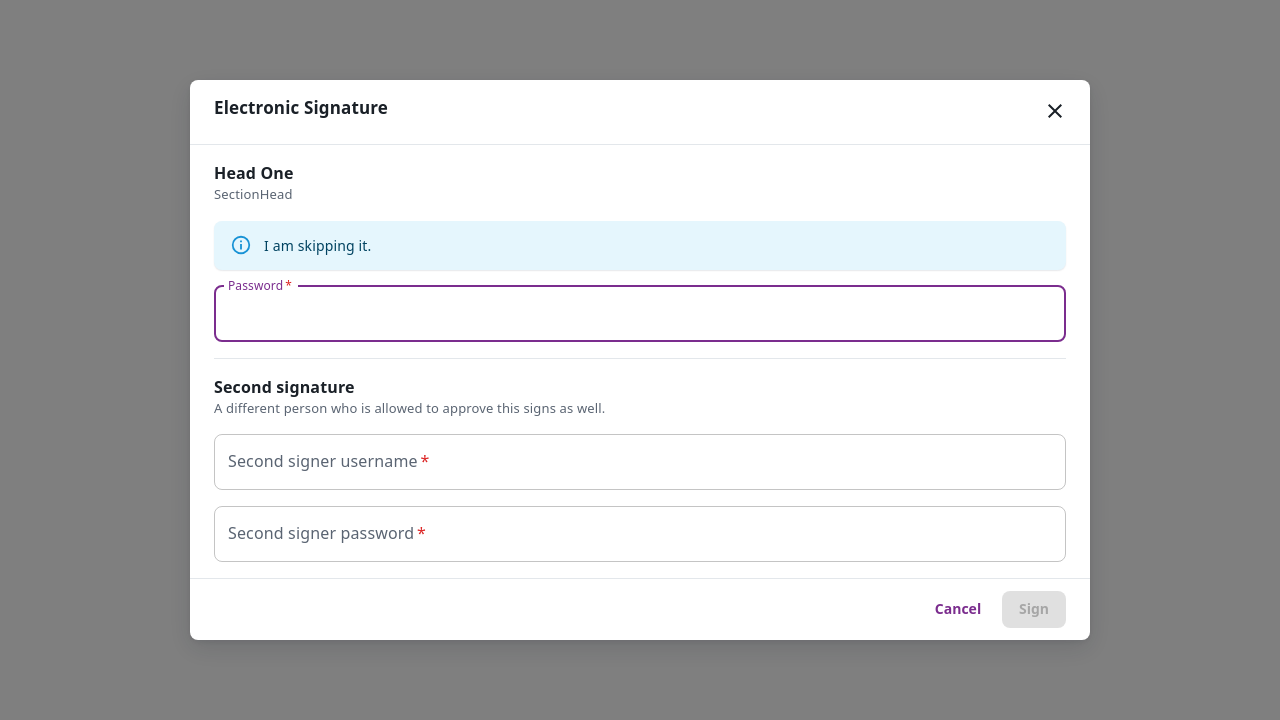
Scenario: SignatureDialog › shows the server's message, clears the passwords and stays open when signing fails
Type "pw-1" into the password field labelled "Password *" at (640, 314), box [214,286,1066,342]
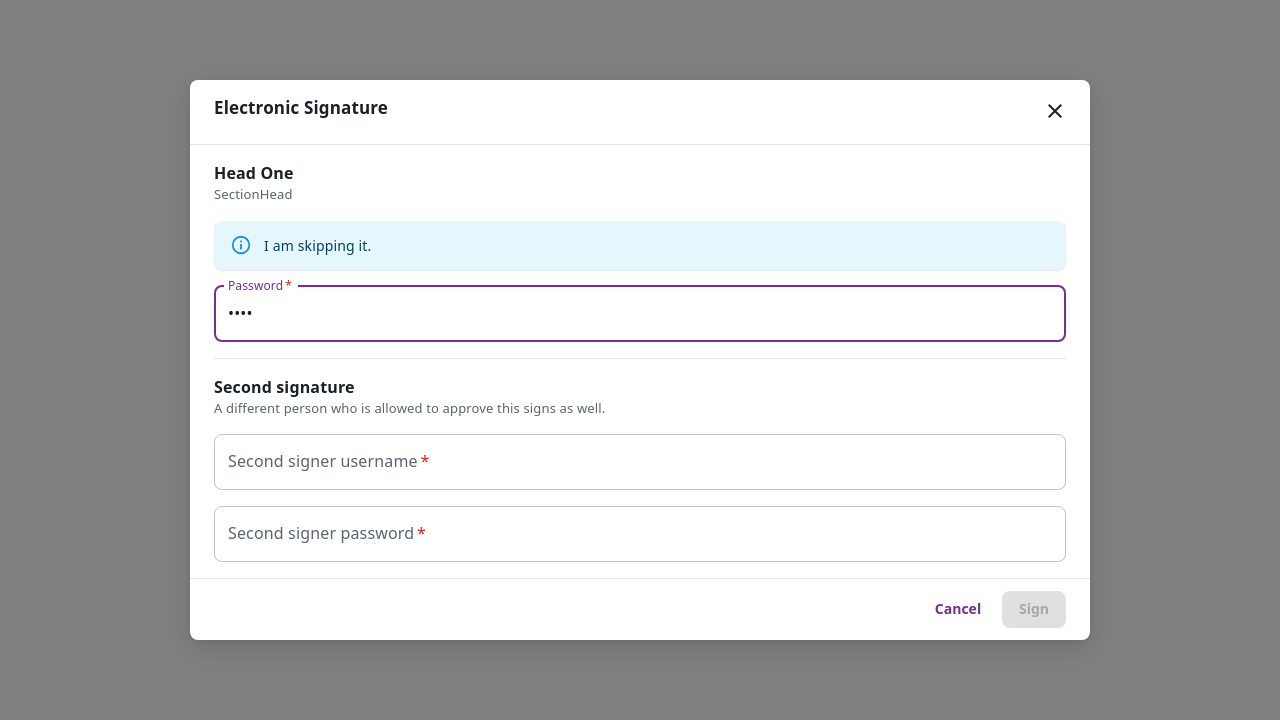
Type "approver" into the field labelled "Second signer username *" at (640, 462), box [214,434,1066,490]
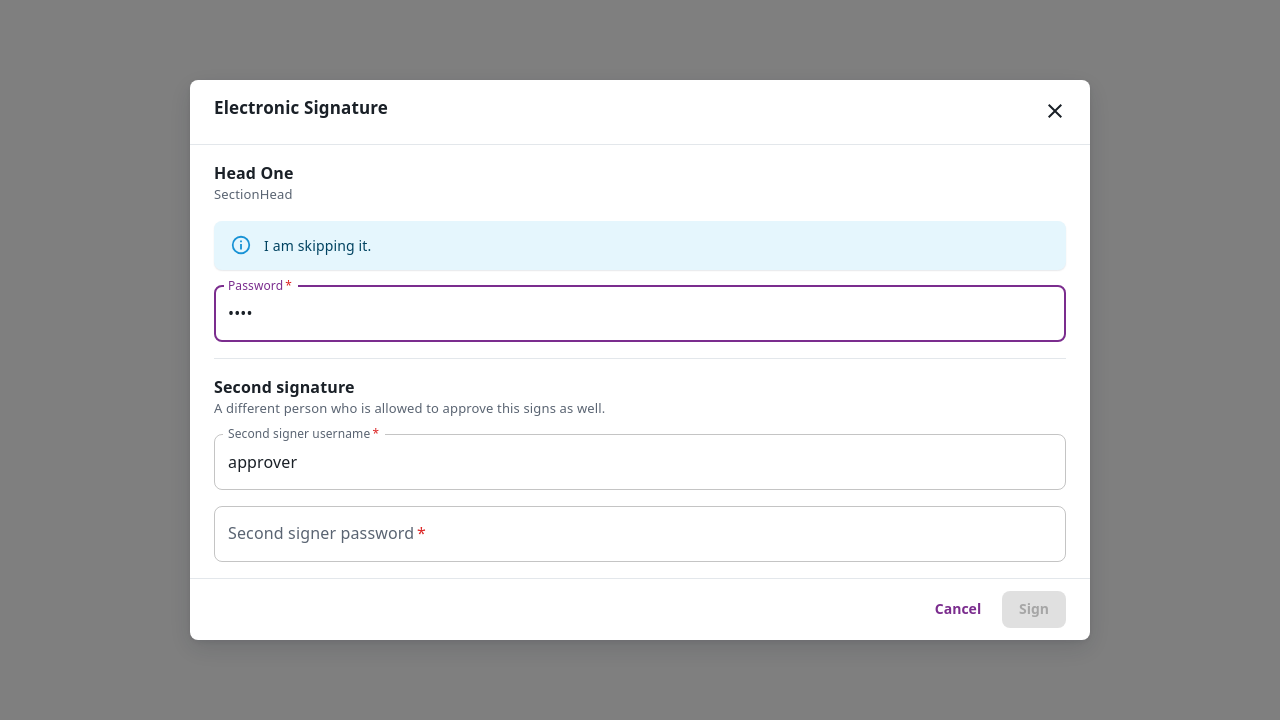
Type "bad" into the password field labelled "Second signer password *" at (640, 534), box [214,506,1066,562]
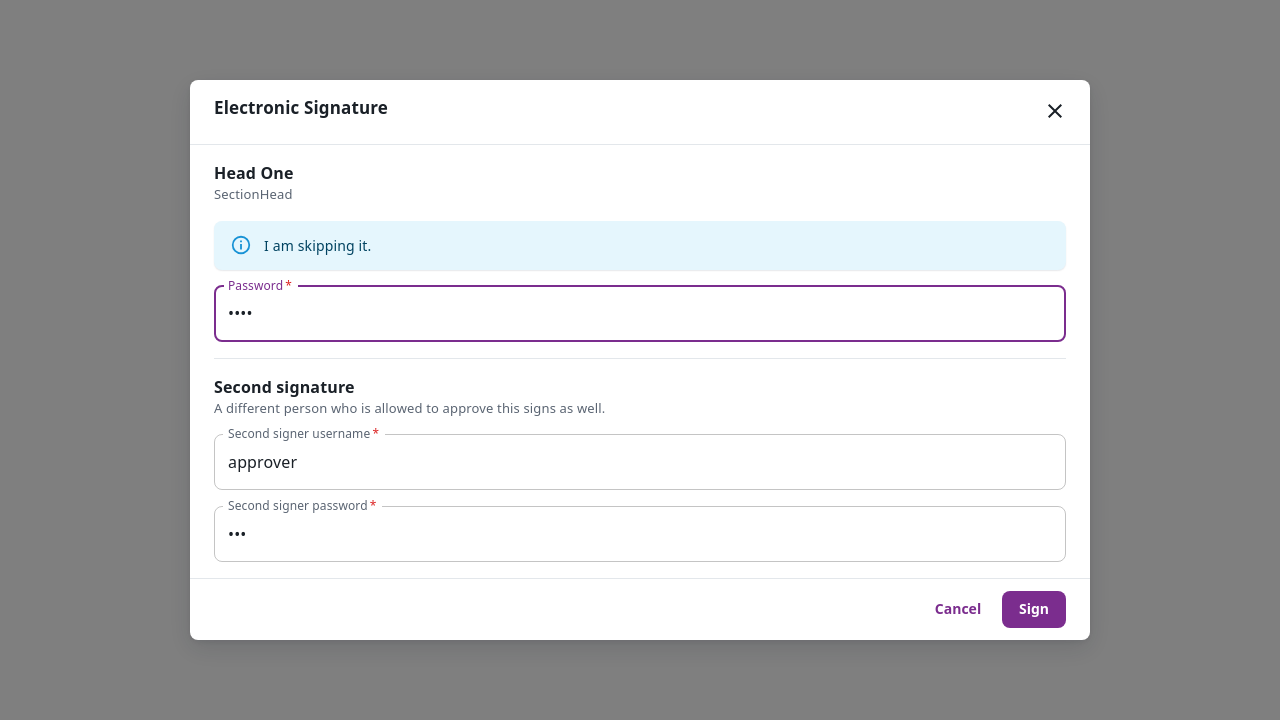
Click the button "Sign" at (1034, 610), box [1002,591,1066,628]
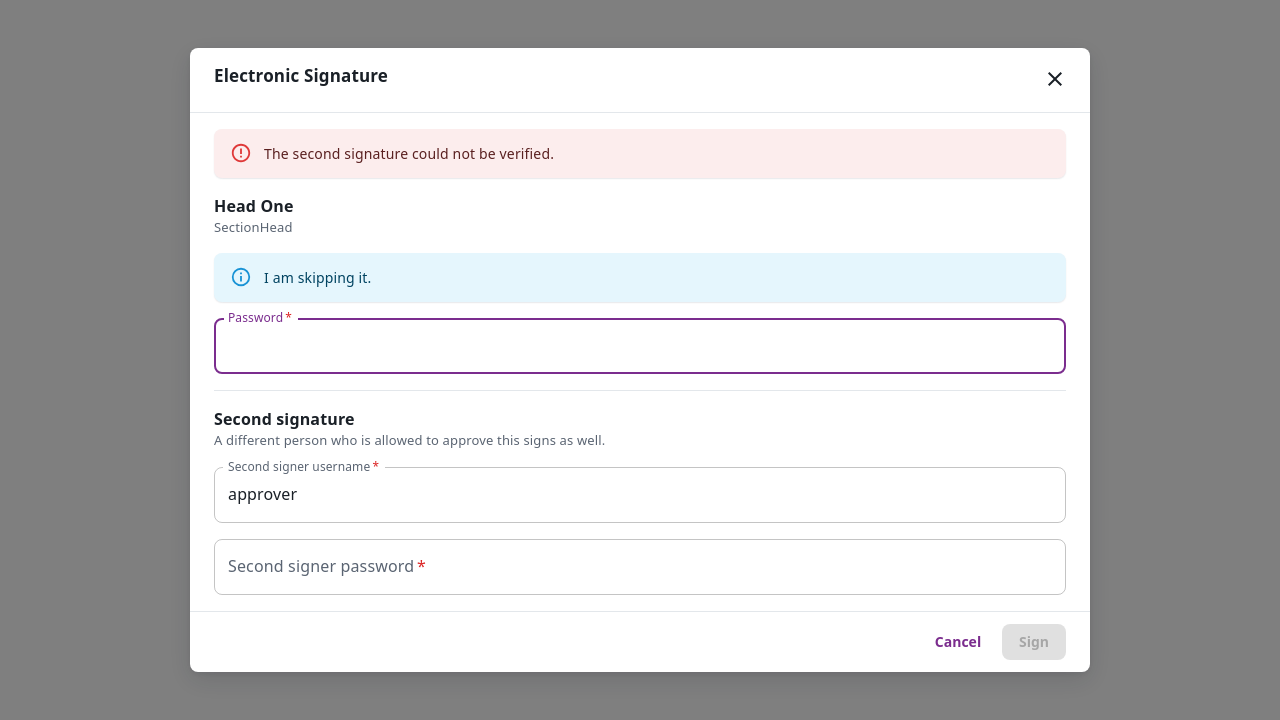
Check: the text "The second signature could not be verified." is shown, box [264,144,554,163]
Check: the password field labelled "Password *" is empty, box [214,318,1066,374]
Check: the password field labelled "Second signer password *" is empty, box [214,539,1066,595]
